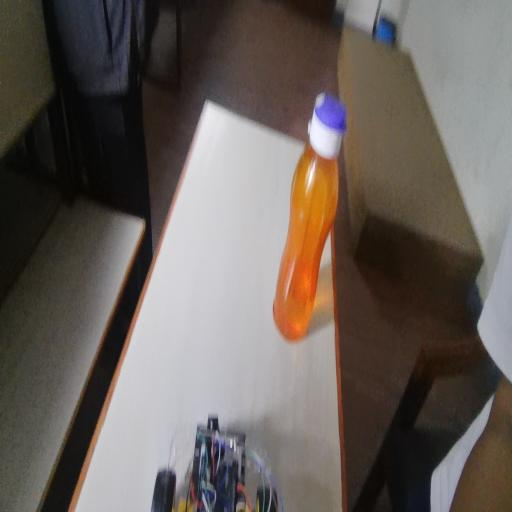Bottle: (285, 86, 345, 347)
car: (168, 396, 265, 512)
